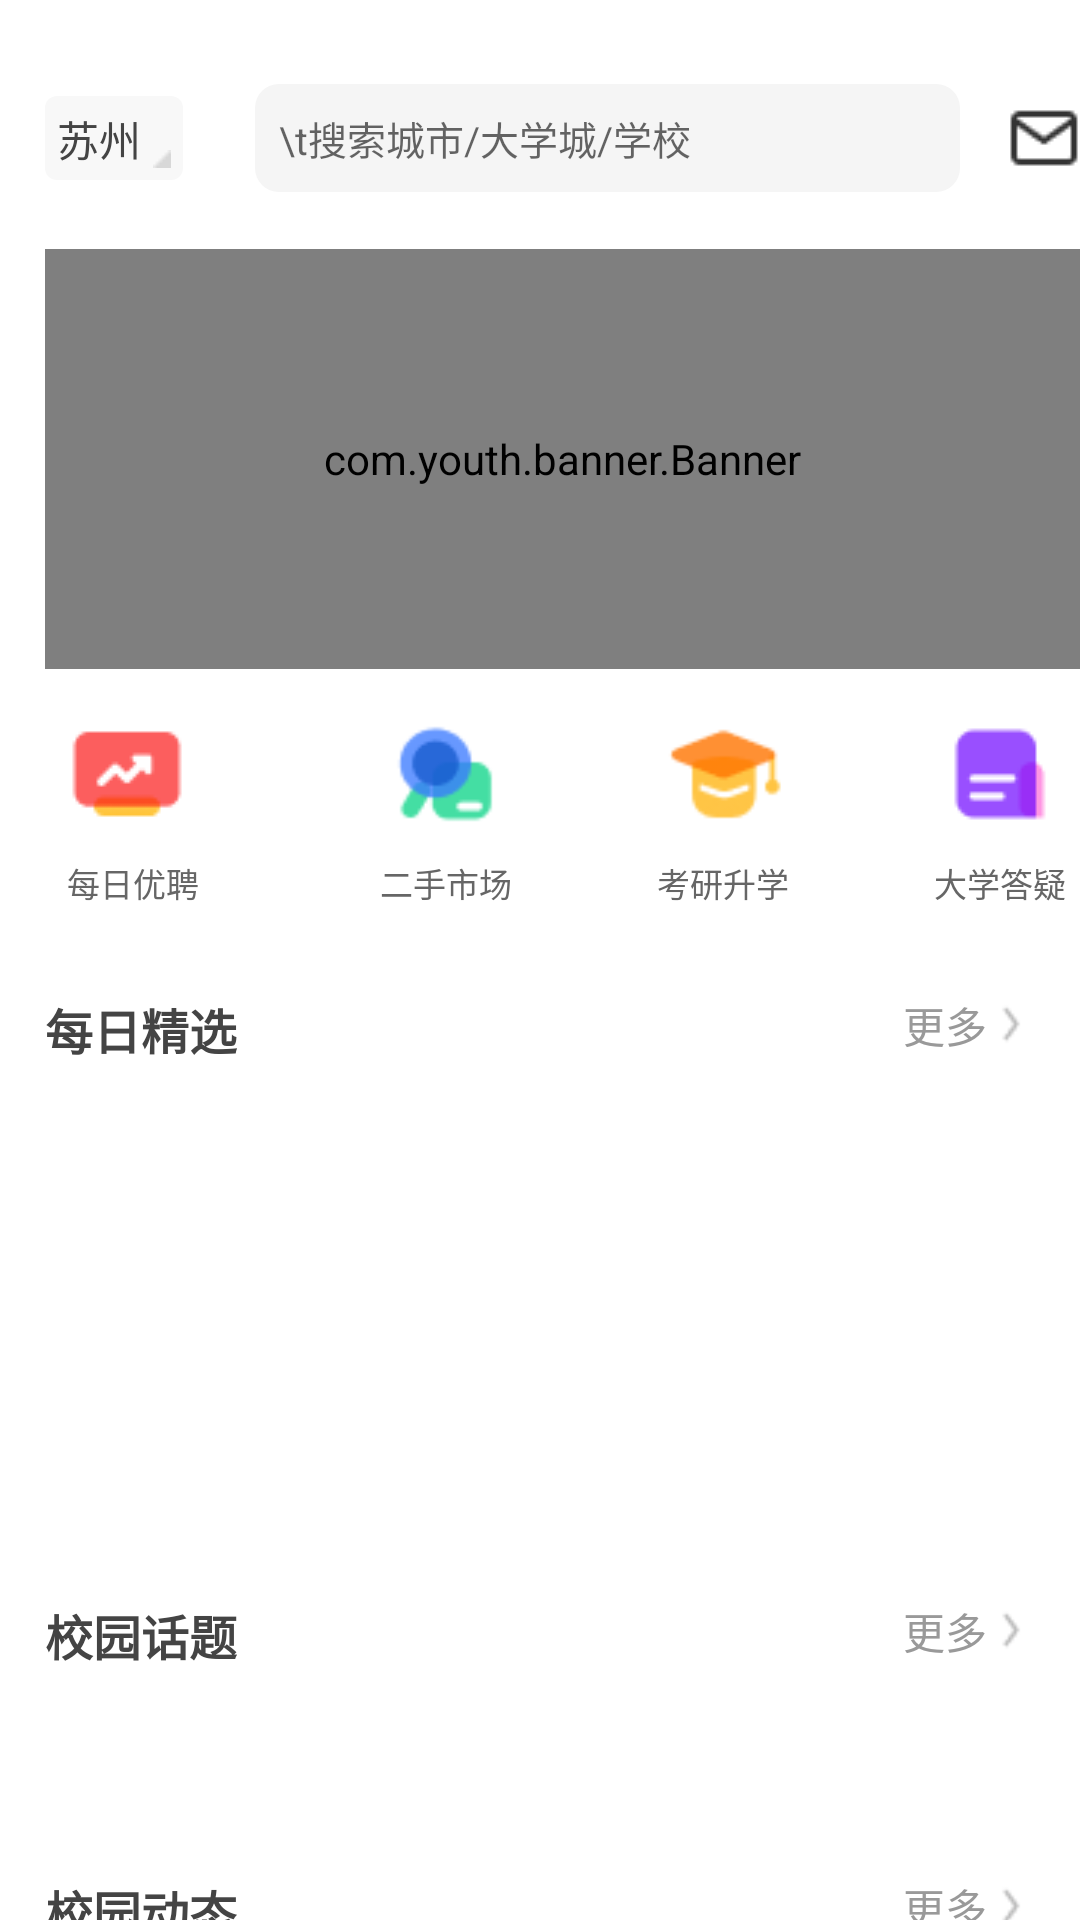

Where to tap for icons on this 1080px×1920px app screen, as (x,y):
src life commitclass: (726,774)
src life email: (1044,138)
